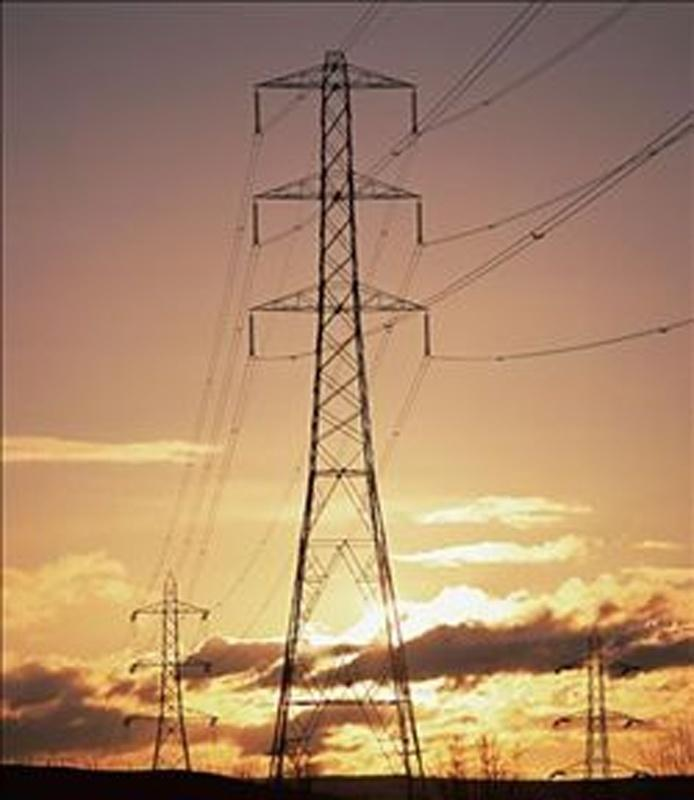power_tower: (244, 46, 432, 796), (122, 567, 220, 780), (545, 622, 653, 785)
